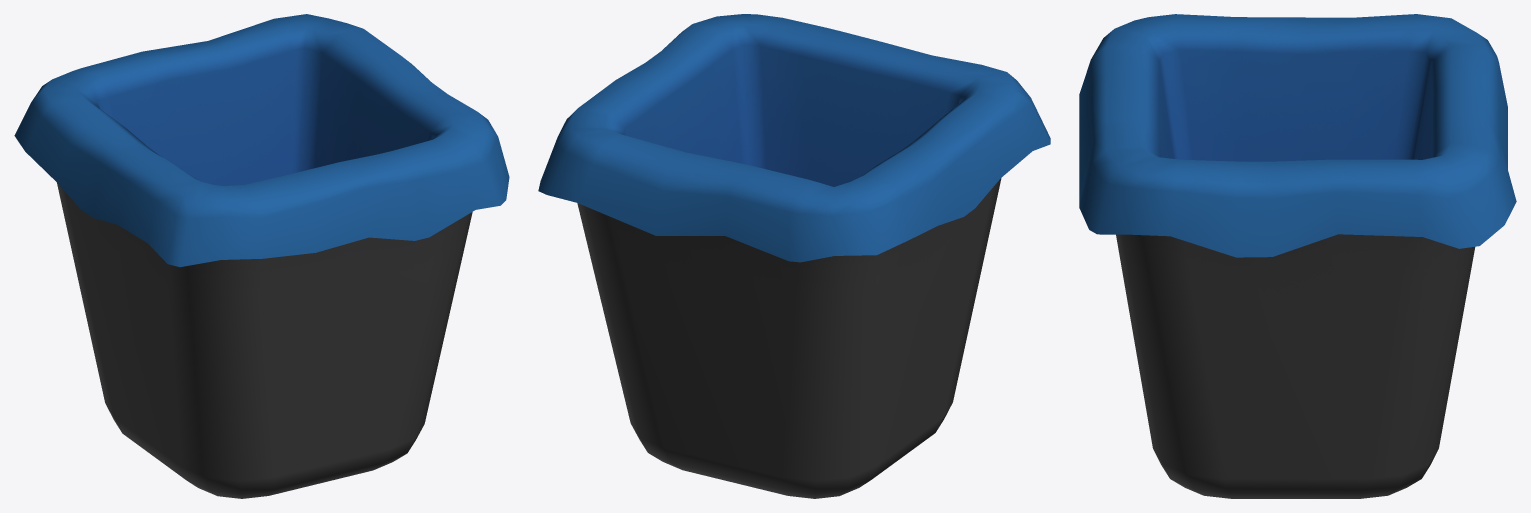
File: Trash.fbx
3 renders of one model, left to right at view 1: azimuth 30°, elevation 25°; view 2: azimuth 150°, elevation 25°; view 3: azimuth 270°, elevation 25°, orthographic. The views are drawn at different scales.
Visible parts, largest first — view 1: trash bin; view 2: trash bin; view 3: trash bin.
Boxes of the visible parts, left/top/right/bottom form: trash bin: left=14, top=14, right=509, bottom=498; trash bin: left=538, top=14, right=1050, bottom=498; trash bin: left=1079, top=14, right=1516, bottom=498.
Size of the model in its own units: 52.56 by 47.48 by 52.26.
